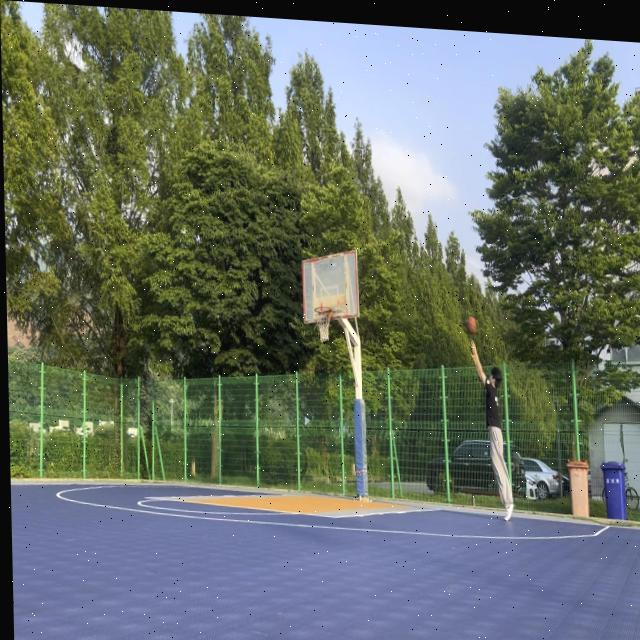basketball: (466, 315, 477, 335)
hoop: (314, 305, 333, 344)
